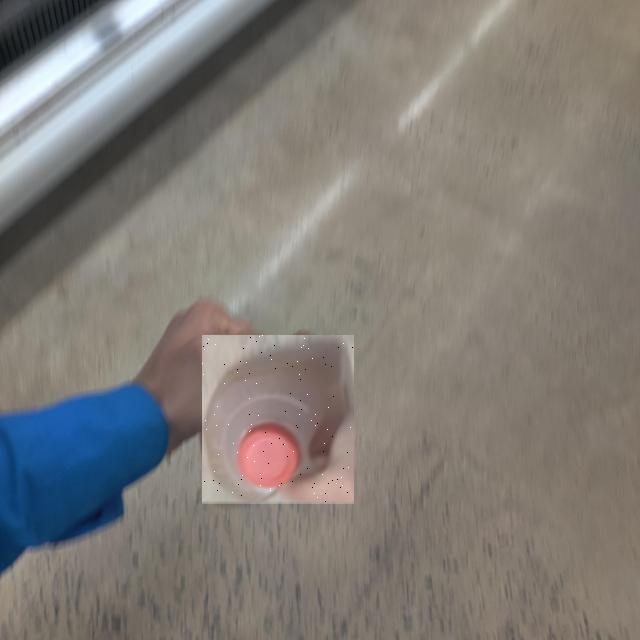Juice: (202, 336, 354, 506)
